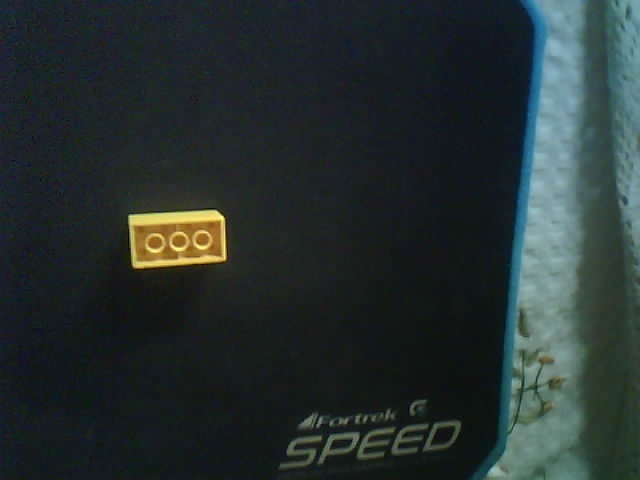lego: (126, 208, 227, 271)
